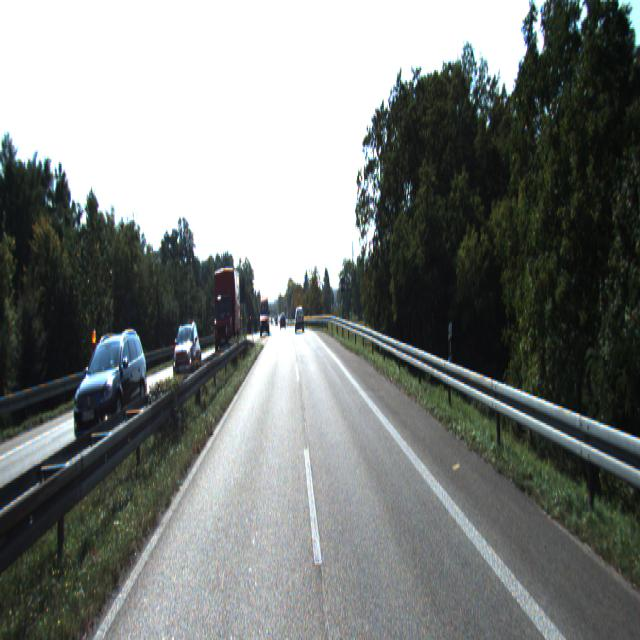Car: (72, 327, 150, 451), (211, 266, 242, 358), (172, 319, 203, 388), (295, 308, 304, 332)
